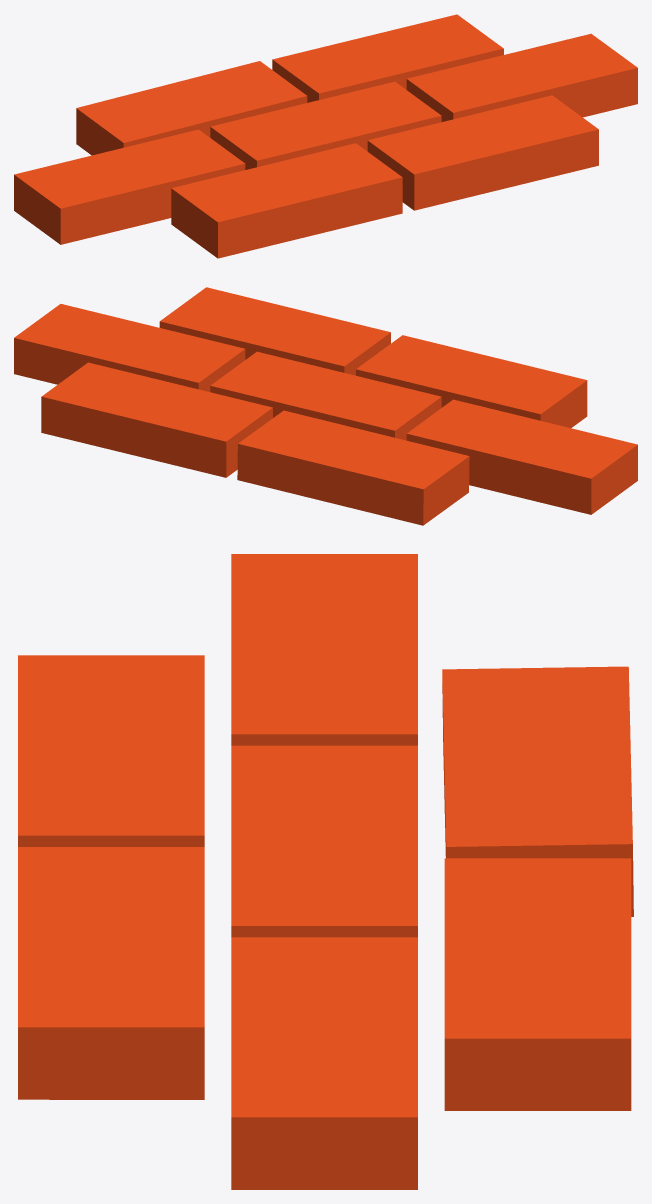
Rendered from brick.glb.
3 renders of one model, top to bottom at view 1: azimuth 30°, elevation 25°; view 2: azimuth 150°, elevation 25°; view 3: azimuth 270°, elevation 25°, orthographic. The views are drawn at different scales.
Parts seen in each view (by area): view 1: group1597040770, group1837804157, group272329239, group1403820099, group682626714, group1027256166, group1065139569; view 2: group682626714, group1065139569, group272329239, group1403820099, group1597040770, group1027256166, group1837804157; view 3: group1065139569, group1403820099, group1837804157, group682626714, group1027256166, group272329239, group1597040770.
Part boxes in pixels (x1=…): group1597040770: x1=171, y1=143, x2=402, y2=258; group1837804157: x1=367, y1=95, x2=598, y2=210; group272329239: x1=14, y1=129, x2=245, y2=244; group1403820099: x1=406, y1=33, x2=637, y2=121; group682626714: x1=76, y1=61, x2=307, y2=155; group1027256166: x1=210, y1=81, x2=441, y2=169; group1065139569: x1=272, y1=14, x2=503, y2=102; group682626714: x1=237, y1=410, x2=469, y2=525; group1065139569: x1=41, y1=362, x2=272, y2=477; group272329239: x1=406, y1=399, x2=637, y2=514; group1403820099: x1=14, y1=304, x2=245, y2=391; group1597040770: x1=356, y1=335, x2=587, y2=427; group1027256166: x1=210, y1=351, x2=441, y2=440; group1837804157: x1=159, y1=287, x2=390, y2=375; group1065139569: x1=444, y1=858, x2=631, y2=1110; group1403820099: x1=231, y1=937, x2=417, y2=1189; group1837804157: x1=18, y1=847, x2=204, y2=1099; group682626714: x1=442, y1=666, x2=633, y2=916; group1027256166: x1=231, y1=745, x2=417, y2=937; group272329239: x1=231, y1=554, x2=417, y2=745; group1597040770: x1=18, y1=655, x2=204, y2=846.
Bounding box in the file's own units: 0.5 × 0.032 × 0.231.
